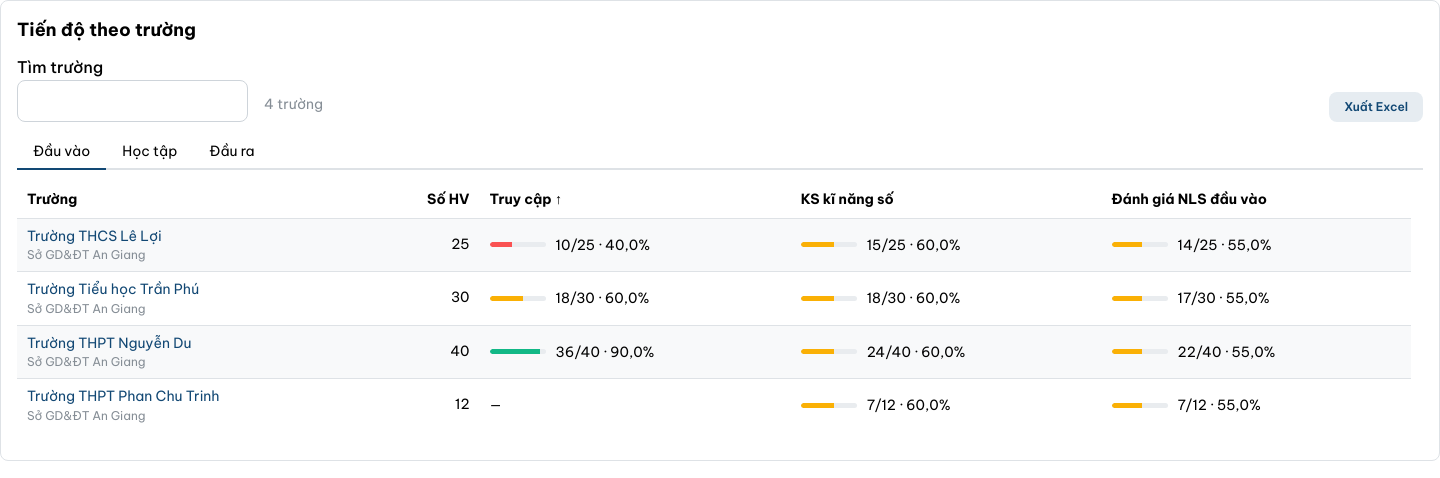
Test: KhoiTienDoTruong › chuyển sang Học tập: cột Có mặt / VLE, ô "3/4 lượt · 75,0%", ghi tdt_tab vào URL
Expected: the button "Trường THPT Nguyễn Du" is shown, [27, 332, 191, 353]
Click the tab "Học tập" at point(150, 152), box [106, 134, 193, 170]
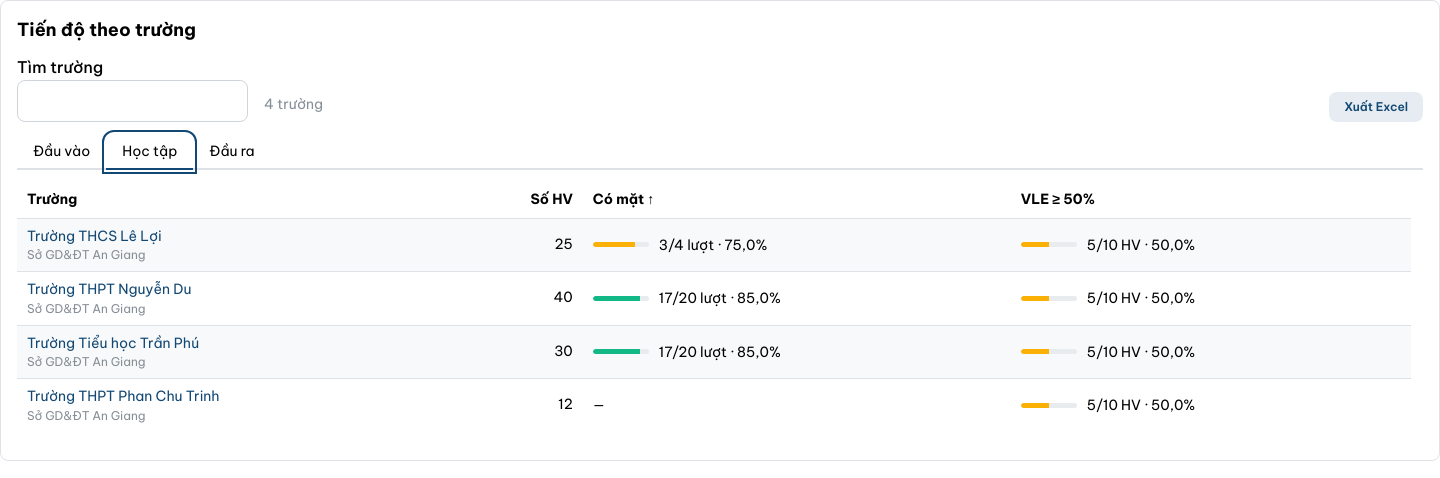
Expected: the column heading "Có mặt" is shown, [583, 182, 1011, 218]
Expected: the column heading "VLE ≥ 50%" is shown, [1011, 182, 1411, 218]
Expected: the button "Truy cập" is gone
